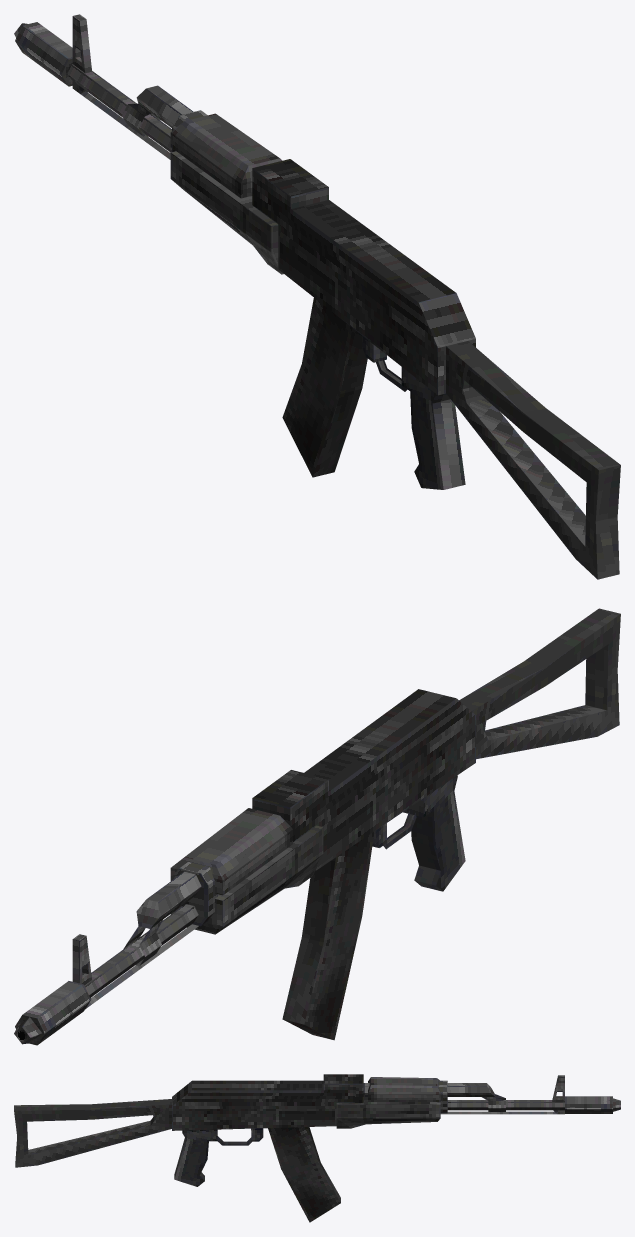
File: recovered_gun_aks74.glb
3 renders of one model, top to bottom at view 1: azimuth 30°, elevation 25°; view 2: azimuth 150°, elevation 25°; view 3: azimuth 270°, elevation 25°, orthographic. The views are drawn at different scales.
Parts seen in each view (by area): view 1: Gun_9daf9cdb404d; view 2: Gun_9daf9cdb404d; view 3: Gun_9daf9cdb404d.
Part boxes in pixels (box(x1,y1,x2,y2)): Gun_9daf9cdb404d: box(14, 14, 620, 579); Gun_9daf9cdb404d: box(14, 608, 620, 1044); Gun_9daf9cdb404d: box(14, 1074, 620, 1222).
Size of the model in its own units: 0.0505 by 0.2578 by 0.9853.
Materials: 2 (2 with a texture image).
